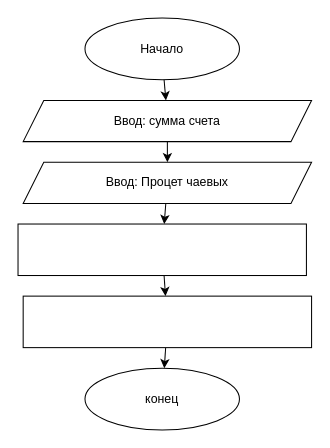
Some shapes in this 330 by 448 pixel diagram are drawn without their labels. The shapes that lost their labels are listed below. From the top down, each one's box as (x1, y1, x2, y2) in pixels, then its label:
(17, 223, 306, 276): Вычисление: чаевых = счет х процент / 100
(22, 295, 312, 348): Вычисление: того= счет + чаевые
